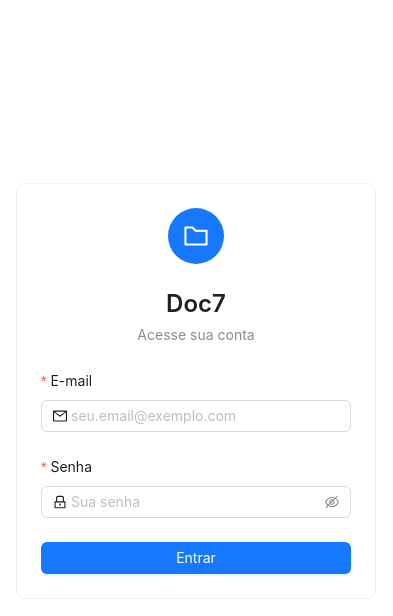
Scenario: Login (US 1.2) › credenciais inválidas mostram mensagem genérica e permanecem no login (cenário 2)
Check: the heading "Doc7" is shown, box [166,289,226,318]
Type "ana@example.com" into the field labelled "E-mail" at (205, 416), box [71,405,339,427]
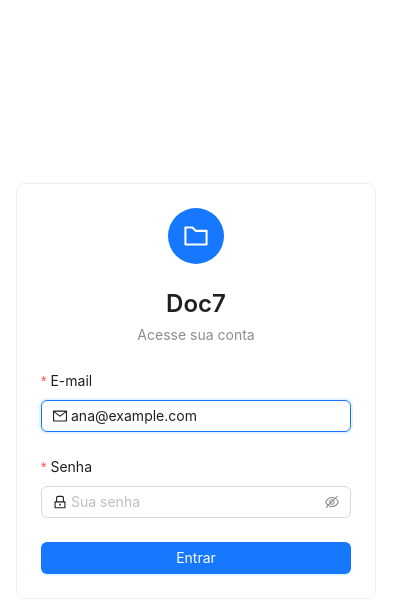
Type "senha-errada" into the password field labelled "Senha" at (196, 502), box [71,491,321,513]
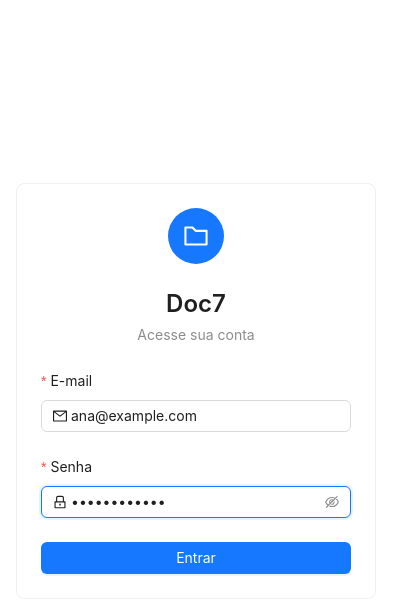
Click the button "Entrar" at (196, 558), box [41,542,351,574]
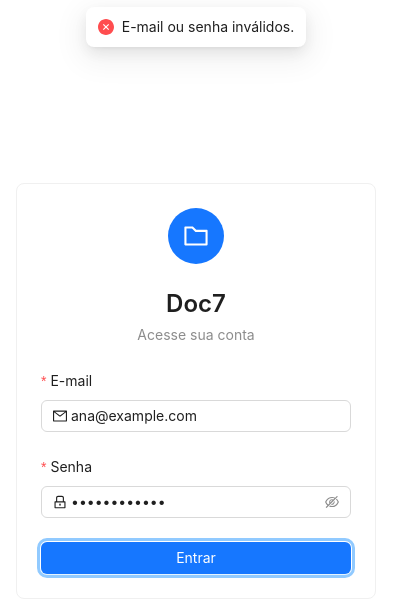
Check: the heading "Doc7" is shown, box [166,289,226,318]
Check: the text "E-mail ou senha inválidos." is shown, box [122,16,294,38]
